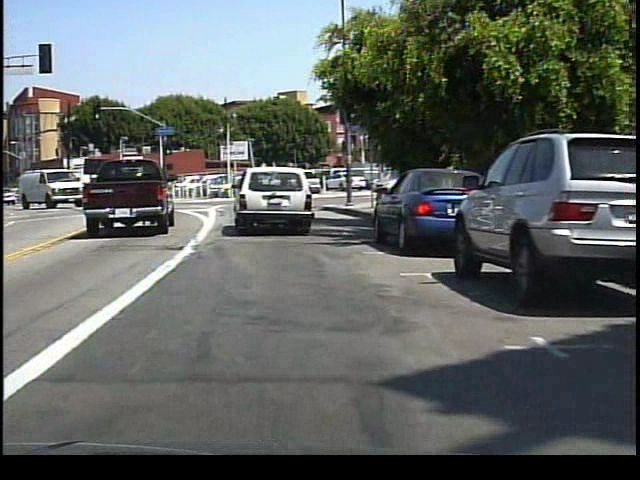person: (341, 168, 356, 199)
